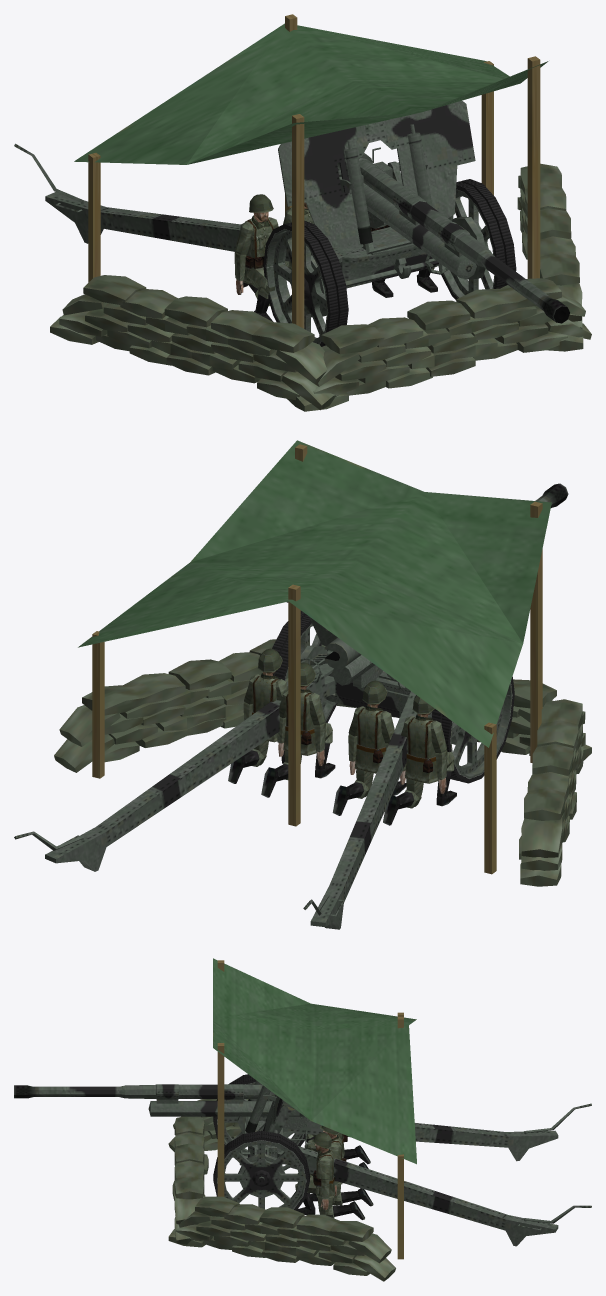
The model's file is SWEKanon105_42_stationary.dae.
3 views of the same model, one above another, from view 1: azimuth 30°, elevation 25°; view 2: azimuth 150°, elevation 25°; view 3: azimuth 270°, elevation 25° (orthographic). The views are drawn at different scales.
Visible parts, largest first — view 1: base, shield, wheels, trail2, barrel, sleeve, turret, carriage, torso4; view 2: base, trail1, trail2, wheels, torso4, torso2, carriage, barrel, torso1, sleeve, torso3; view 3: base, wheels, trail1, trail2, sleeve, barrel, turret, torso3.
Part boxes in pixels (x1,y1,x2,y2): base: (50, 14, 591, 411); shield: (278, 100, 475, 248); wheels: (263, 179, 516, 346); trail2: (14, 143, 311, 261); barrel: (337, 147, 569, 323); sleeve: (338, 161, 476, 279); turret: (339, 124, 432, 254); carriage: (332, 225, 468, 288); torso4: (243, 215, 274, 284); base: (54, 440, 591, 886); trail1: (14, 663, 336, 871); trail2: (303, 691, 417, 929); wheels: (272, 611, 514, 783); torso4: (405, 714, 438, 783); torso2: (354, 705, 385, 773); carriage: (310, 653, 432, 718); barrel: (324, 483, 568, 669); torso1: (283, 689, 317, 755); sleeve: (332, 655, 382, 687); torso3: (252, 673, 278, 742); base: (168, 958, 416, 1281); wheels: (213, 1074, 309, 1210); trail1: (277, 1146, 591, 1246); trail2: (283, 1103, 591, 1161); sleeve: (148, 1084, 306, 1129); barrel: (14, 1084, 274, 1098); turret: (245, 1080, 310, 1149); torso3: (313, 1149, 336, 1198).
Size of the model in its own units: 51.33 by 70.75 by 26.68.
